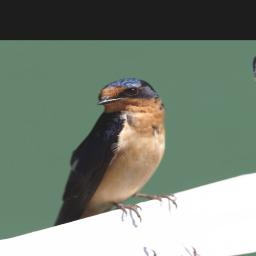Swallow: (2, 72, 205, 239)
